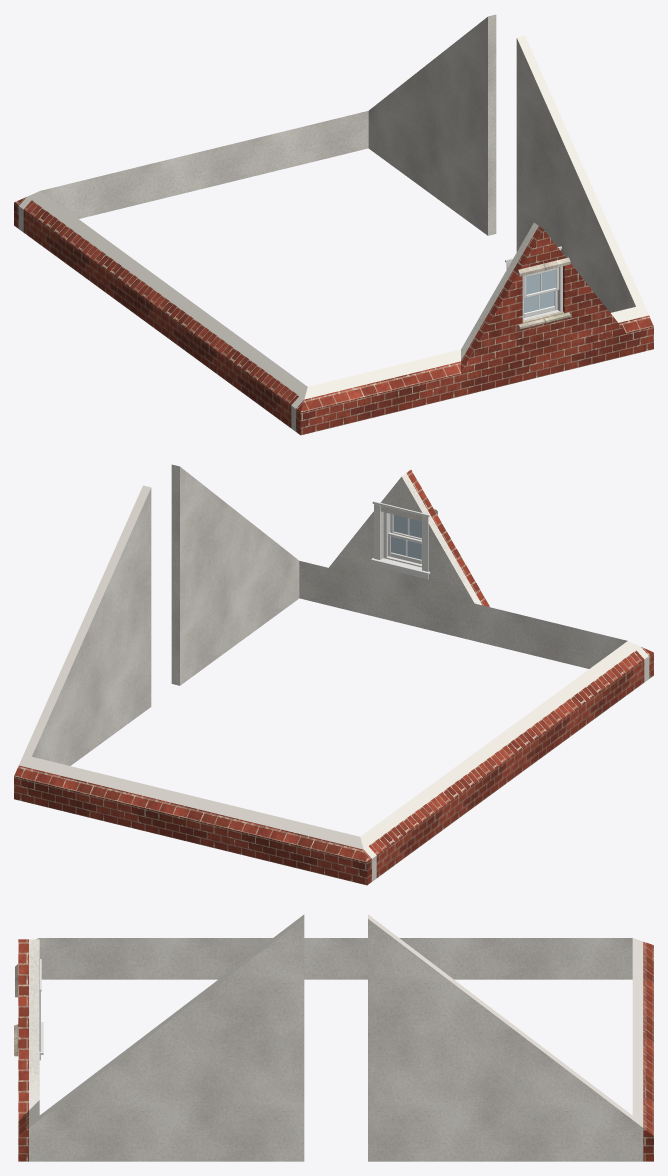
File: shell_a_l.glb
3 views of the same model, one above another, from view 1: azimuth 30°, elevation 25°; view 2: azimuth 150°, elevation 25°; view 3: azimuth 270°, elevation 25° (orthographic). The views are drawn at different scales.
Parts seen in each view (by area): view 1: shell_a_l_plaster, shell_a_l_brick, shell_a_l_glass, shell_a_l_stone_c, shell_a_l_sash; view 2: shell_a_l_plaster, shell_a_l_brick, shell_a_l_trim, shell_a_l_glass, shell_a_l_sash; view 3: shell_a_l_plaster, shell_a_l_brick.
Part boxes in pixels (x1,y1,x2,y2): shell_a_l_plaster: (18,14,648,431); shell_a_l_brick: (14,197,653,435); shell_a_l_glass: (524,270,556,312); shell_a_l_stone_c: (518,257,570,329); shell_a_l_sash: (523,267,559,317); shell_a_l_plaster: (19,464,649,881); shell_a_l_brick: (14,470,653,885); shell_a_l_trim: (371,501,430,579); shell_a_l_glass: (391,514,421,559); shell_a_l_sash: (388,514,421,564); shell_a_l_plaster: (29,914,643,1161); shell_a_l_brick: (18,939,653,1161).
Size of the model in its own units: 6.4 by 3.8 by 9.06.
Materials: 8 (3 with a texture image).
